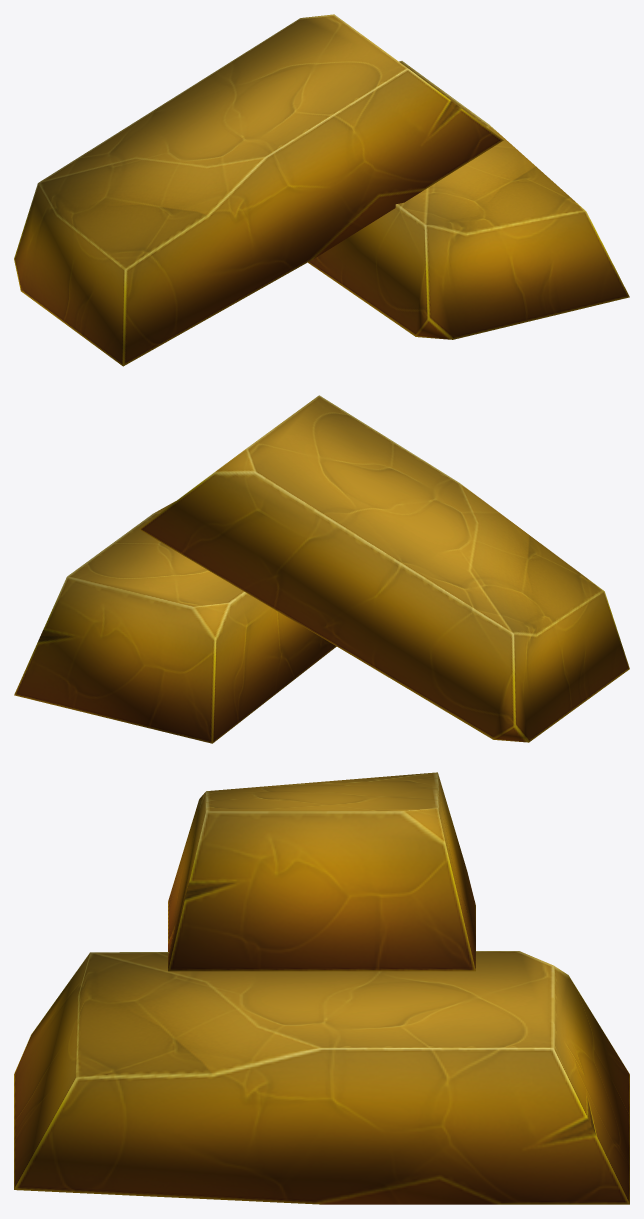
File: Gold-04.fbx
3 views of the same model, one above another, from view 1: azimuth 30°, elevation 25°; view 2: azimuth 150°, elevation 25°; view 3: azimuth 270°, elevation 25° (orthographic). The views are drawn at different scales.
Parts seen in each view (by area): view 1: Gold-04; view 2: Gold-04; view 3: Gold-04.
Part boxes in pixels (<box>): Gold-04: <box>14,14,629,366</box>; Gold-04: <box>14,395,629,743</box>; Gold-04: <box>14,772,629,1204</box>.
Size of the model in its own units: 0.1678 by 0.0797 by 0.15.
1 material, 1 textured.
